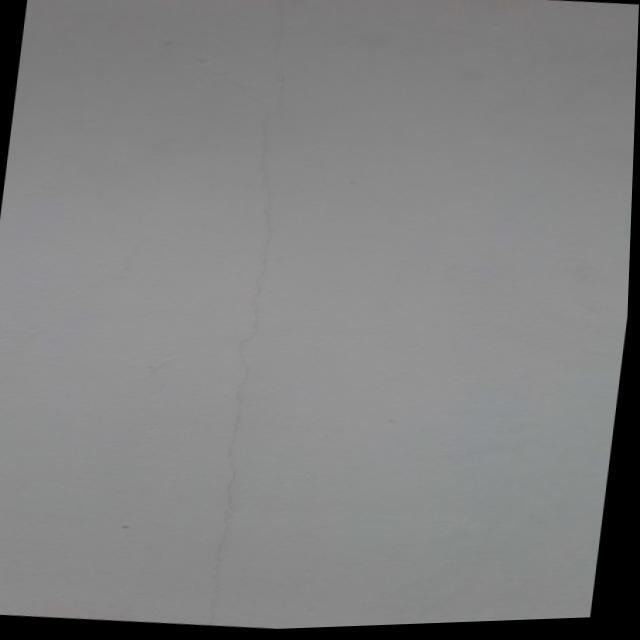Crack: (191, 59, 280, 622)
